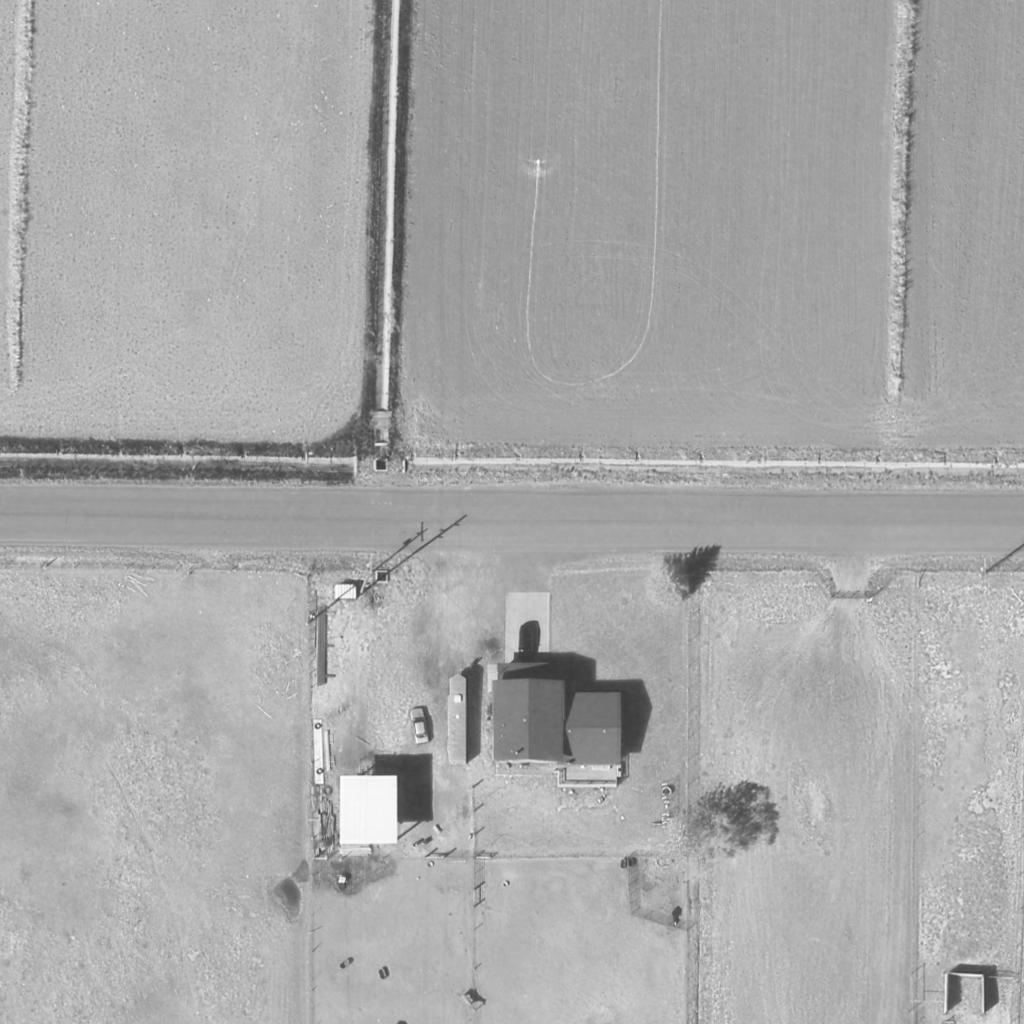vehicle: (447, 673, 467, 765), (410, 710, 432, 744), (520, 626, 536, 664)
